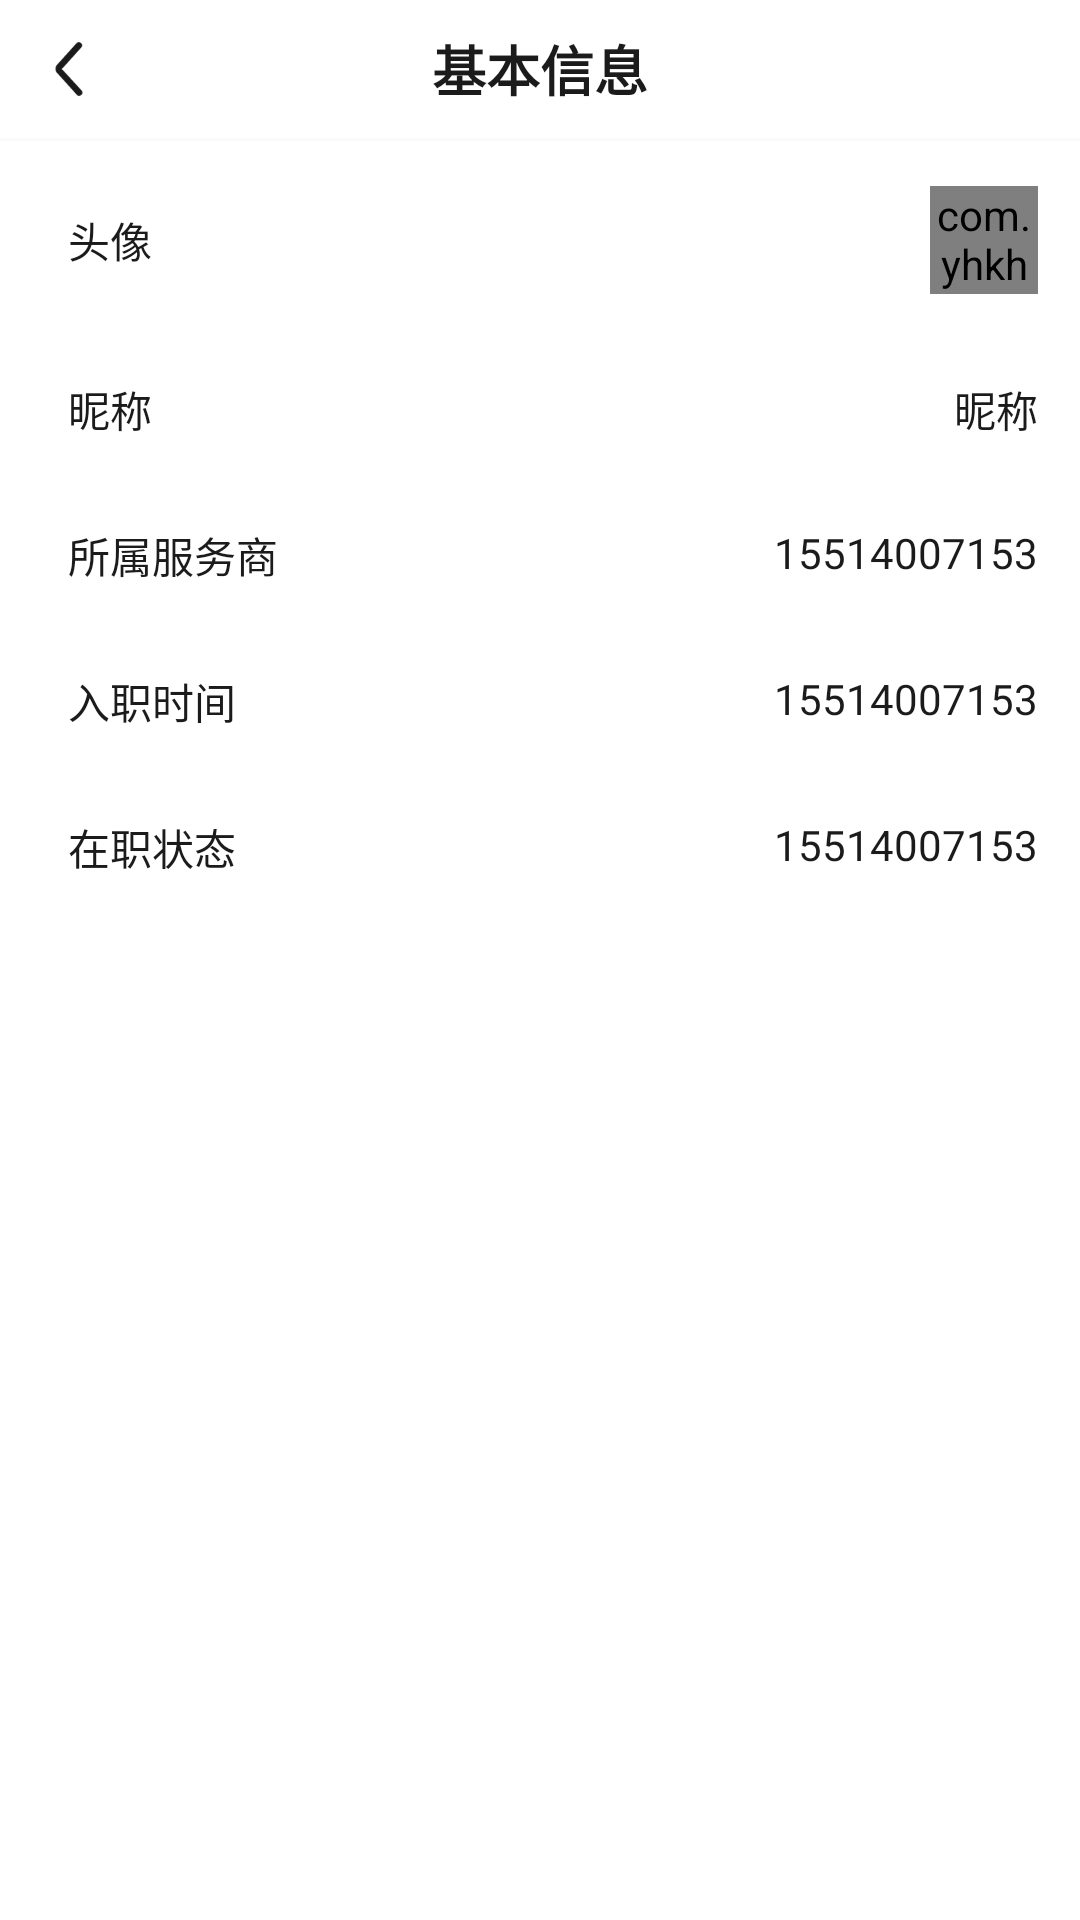

Where icons sit on this 1080×1920 app screen, as (x1=x1, y1=y1, x2=x2, y2=y2):
fanhui: (x1=55, y1=42, x2=83, y2=96)
